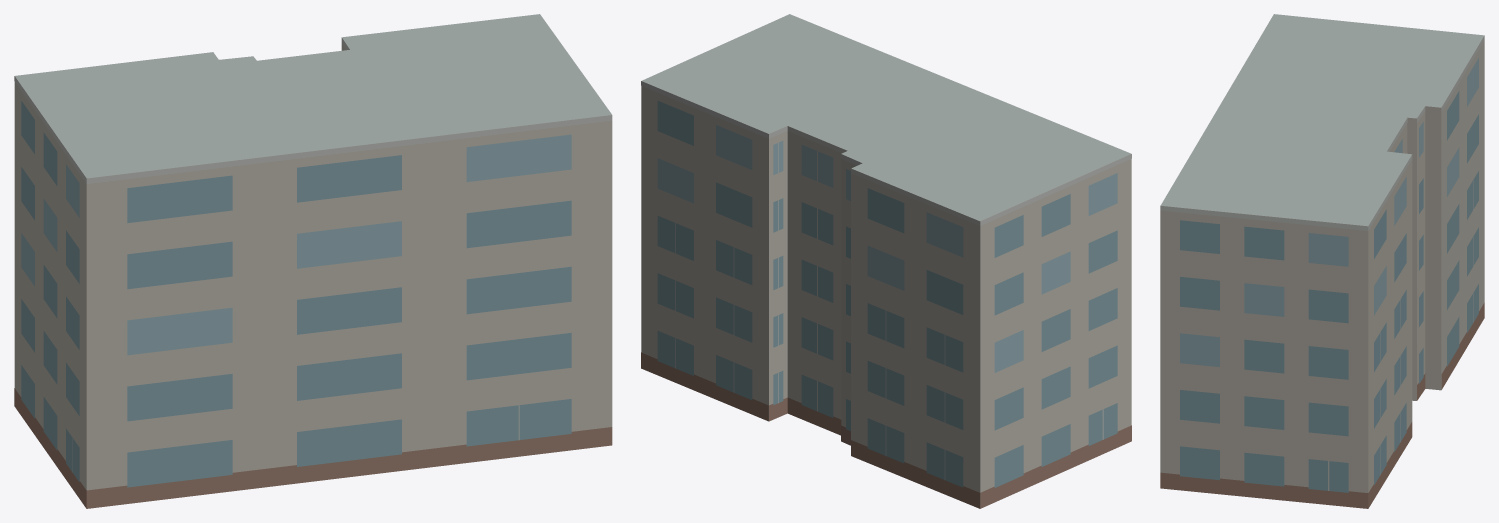
The model's file is survey-upis-32736009.glb.
3 renders of one model, left to right at view 1: azimuth 30°, elevation 25°; view 2: azimuth 150°, elevation 25°; view 3: azimuth 270°, elevation 25°, orthographic. The views are drawn at different scales.
Parts seen in each view (by area): view 1: survey-upis-32736009.tmp; view 2: survey-upis-32736009.tmp; view 3: survey-upis-32736009.tmp.
Part boxes in pixels (x1=…): survey-upis-32736009.tmp: x1=14, y1=14, x2=612, y2=508; survey-upis-32736009.tmp: x1=641, y1=14, x2=1131, y2=508; survey-upis-32736009.tmp: x1=1160, y1=14, x2=1484, y2=508.
Size of the model in its own units: 23.28 by 14.45 by 15.03.
